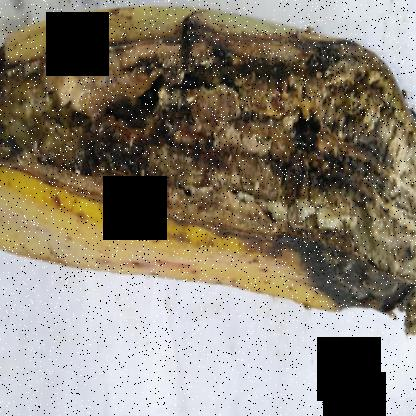rotten: (1, 0, 415, 339)
